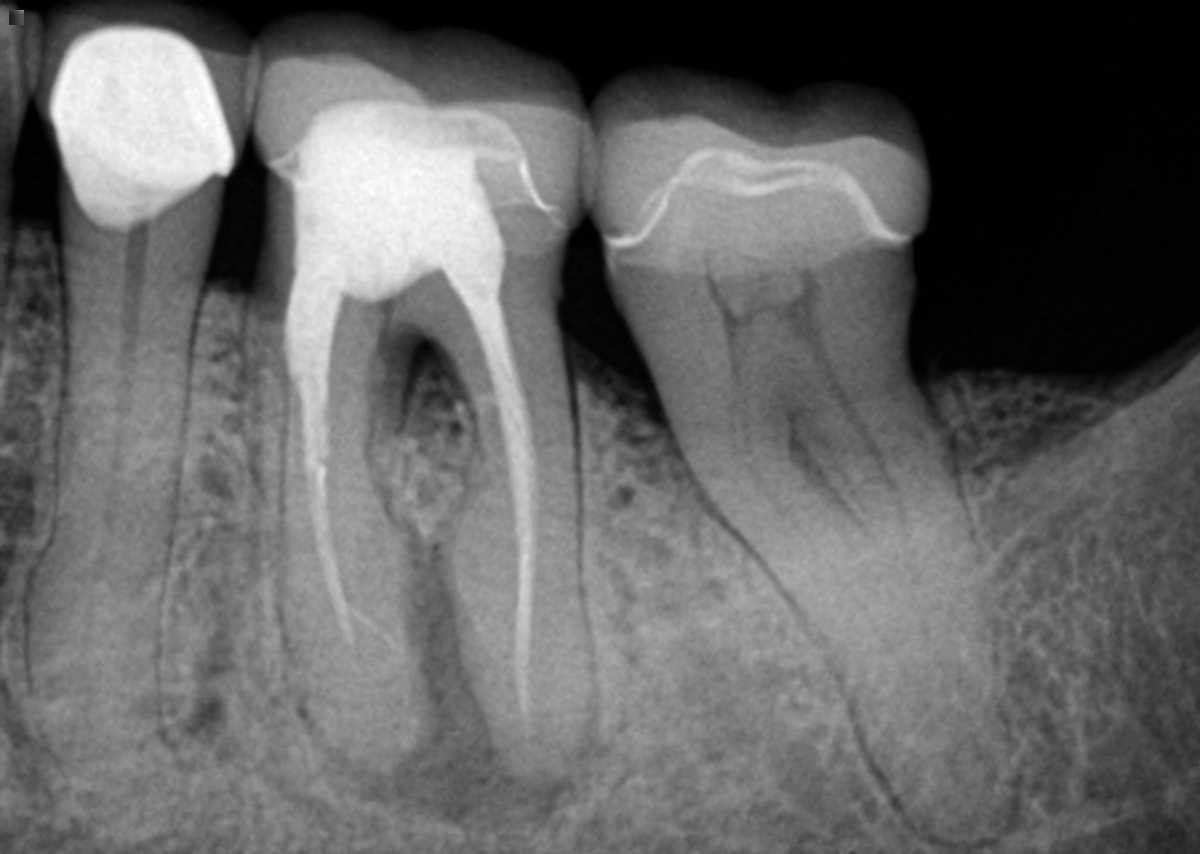Apical Lesion: (329, 530, 606, 822)
Distal Canal: (826, 380, 914, 566)
Distal Root: (442, 334, 594, 791)
Main Canal: (80, 265, 146, 728)
Main Root: (679, 379, 1013, 843), (21, 260, 207, 762)
Mesial Canal: (737, 396, 920, 680)
Mesial Root: (248, 310, 442, 772)
Root Canal Filling: (282, 277, 403, 652), (465, 281, 538, 740)
